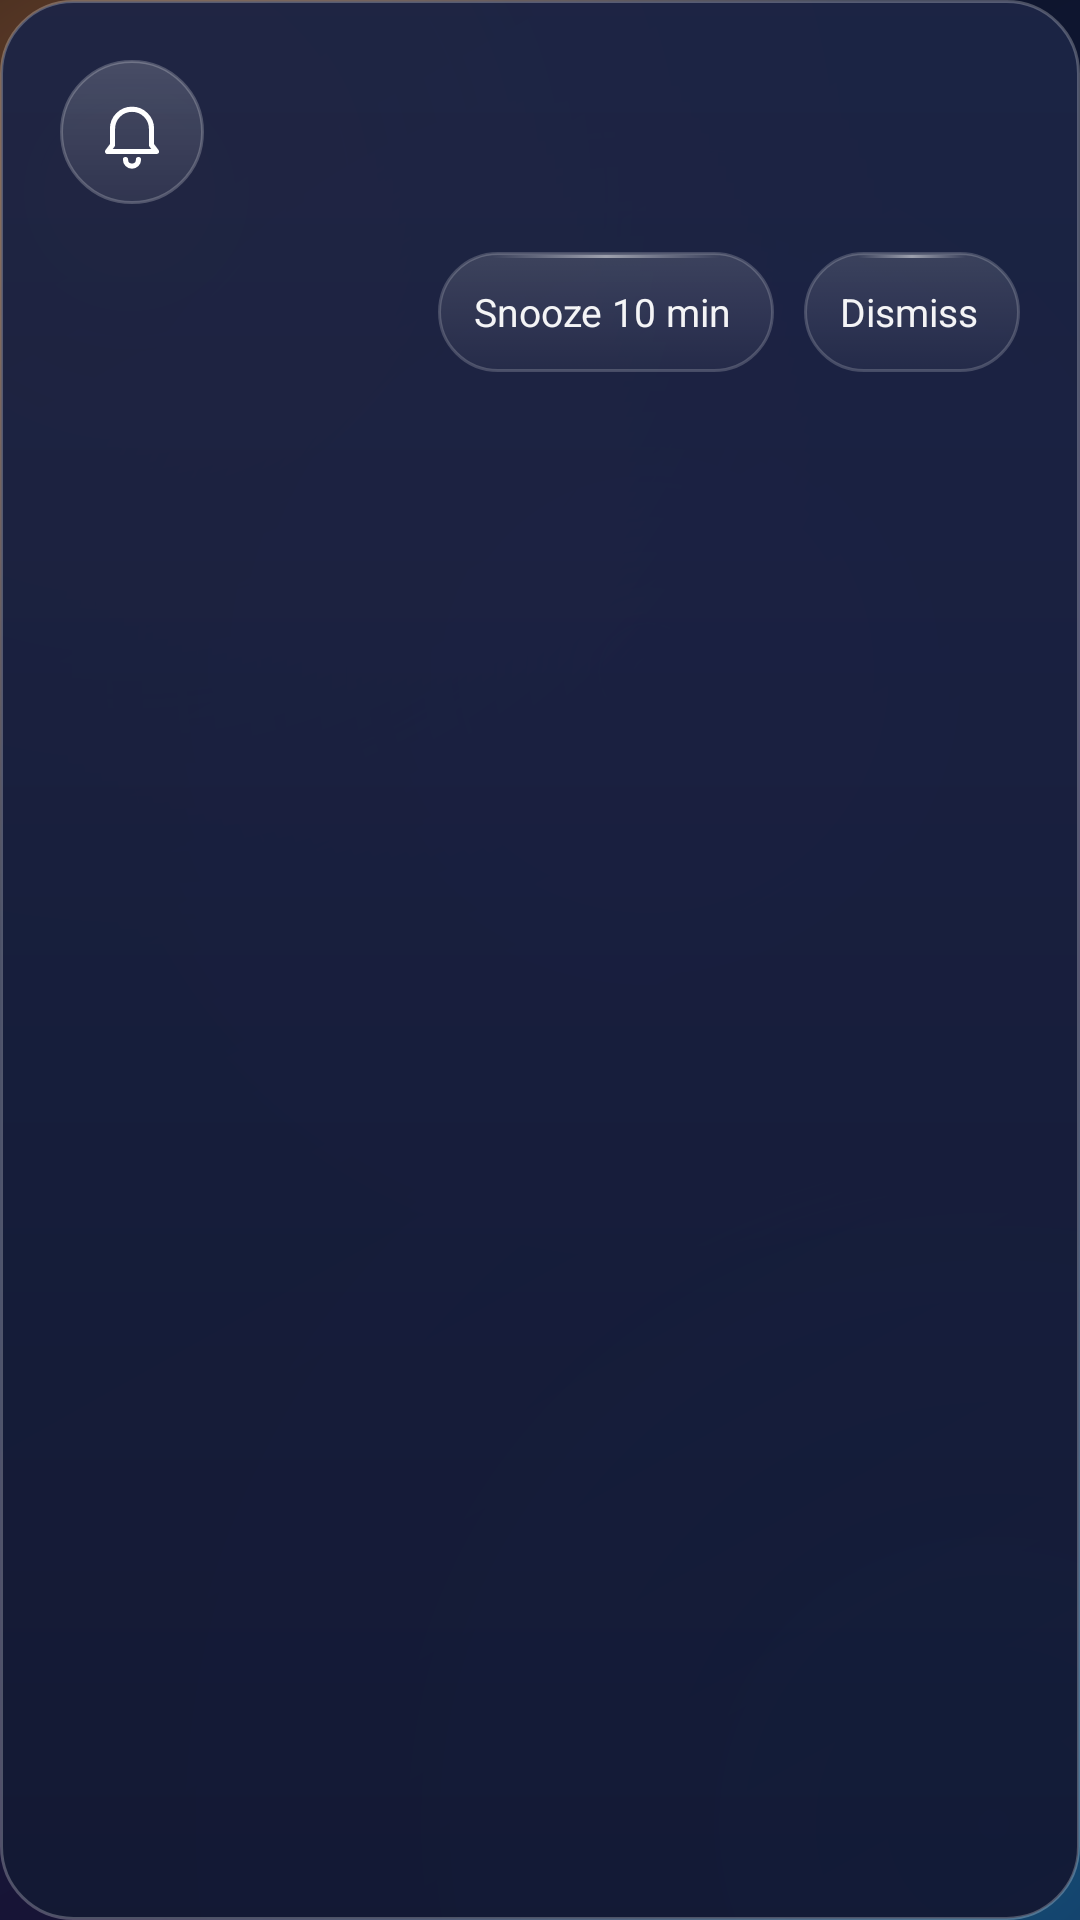

Named icons in this screenshot (1080px x 1920px) and their bounding boxes, detection(x1, y1, x2, y2):
bell: detection(105, 106, 159, 169)
